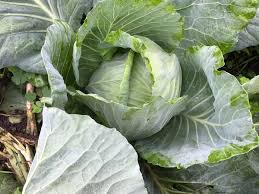cabbage: (81, 52, 190, 140)
